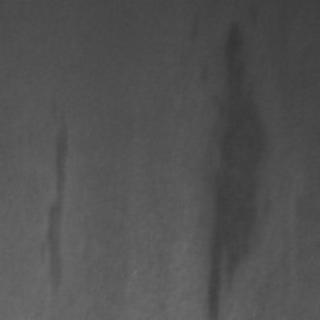inclusion: (202, 17, 270, 316), (30, 101, 70, 293)
